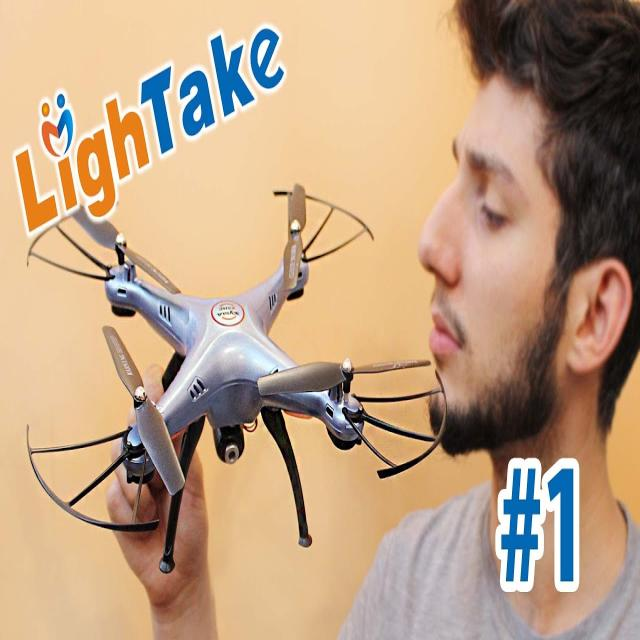drone: (22, 179, 458, 550)
